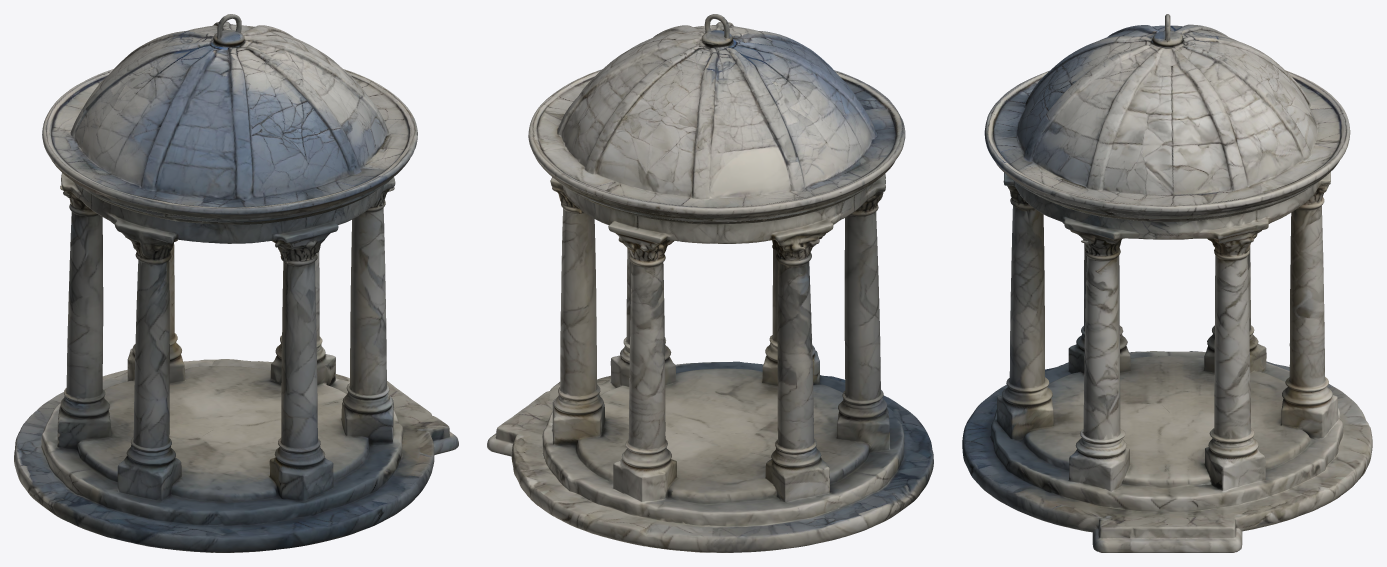
Rendered from plaza-gazebo-roman.glb.
3 renders of one model, left to right at view 1: azimuth 30°, elevation 25°; view 2: azimuth 150°, elevation 25°; view 3: azimuth 270°, elevation 25°, orthographic. The views are drawn at different scales.
Visible parts, largest first — view 1: tripo_node_f1916a3d-854a-4fe2-a3f8-f9f69b8f25aa; view 2: tripo_node_f1916a3d-854a-4fe2-a3f8-f9f69b8f25aa; view 3: tripo_node_f1916a3d-854a-4fe2-a3f8-f9f69b8f25aa.
Boxes of the visible parts, left/top/right/bottom form: tripo_node_f1916a3d-854a-4fe2-a3f8-f9f69b8f25aa: left=14, top=14, right=458, bottom=552; tripo_node_f1916a3d-854a-4fe2-a3f8-f9f69b8f25aa: left=487, top=14, right=933, bottom=552; tripo_node_f1916a3d-854a-4fe2-a3f8-f9f69b8f25aa: left=962, top=14, right=1372, bottom=552.
Size of the model in its own units: 5.29 by 6 by 5.02.
1 material, 1 textured.
